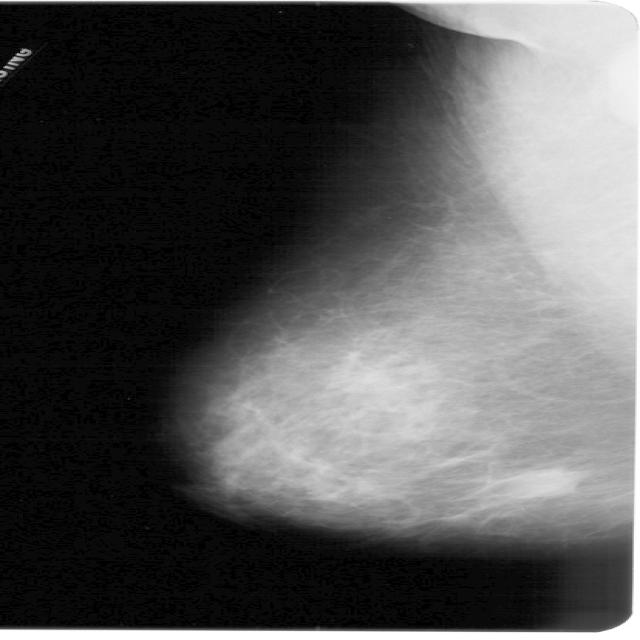tumour: (497, 466, 588, 500)
